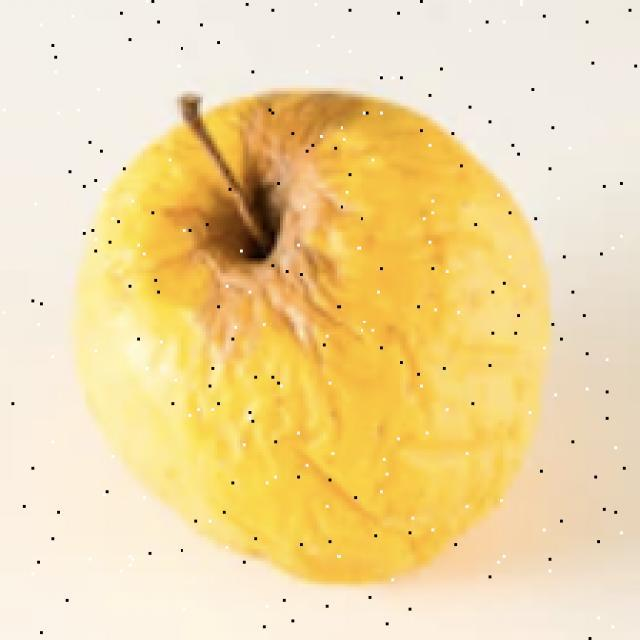Rotten: (107, 100, 553, 590)
